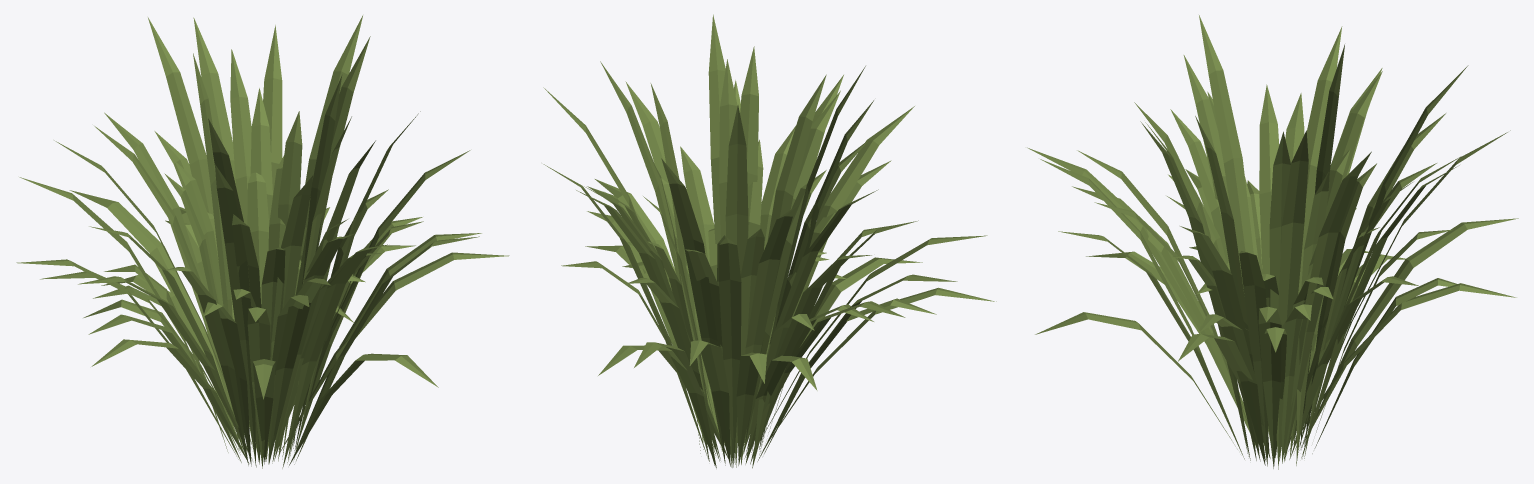
The model's file is grass_lod0.glb.
3 renders of one model, left to right at view 1: azimuth 30°, elevation 25°; view 2: azimuth 150°, elevation 25°; view 3: azimuth 270°, elevation 25°, orthographic.
Visible parts, largest first — view 1: grass; view 2: grass; view 3: grass.
Boxes of the visible parts, x1,y1,x2,y2 form: grass: [16, 15, 509, 468]; grass: [543, 14, 996, 468]; grass: [1027, 15, 1518, 469].
Size of the model in its own units: 0.8376 by 0.718 by 0.8154.
